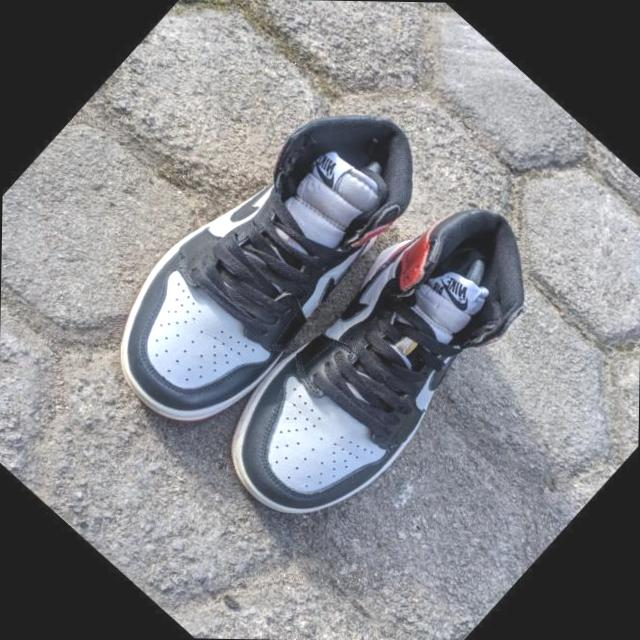nike_fake_jordan: (75, 58, 453, 456), (197, 166, 568, 558)
